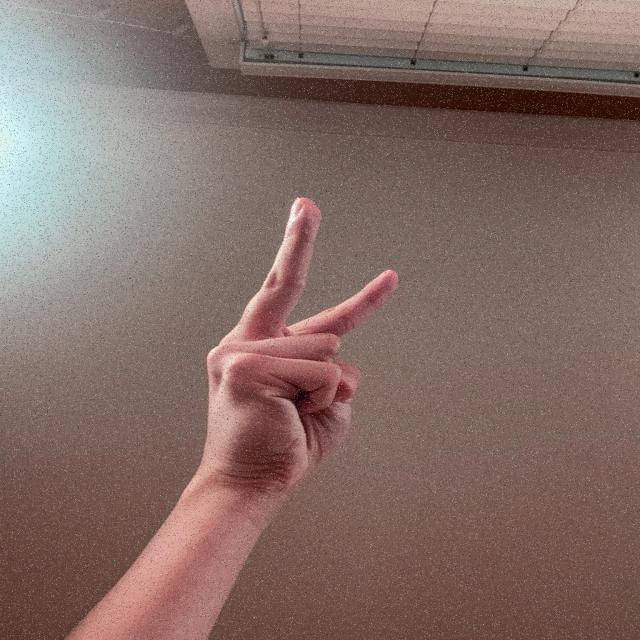V: (195, 191, 406, 500)
